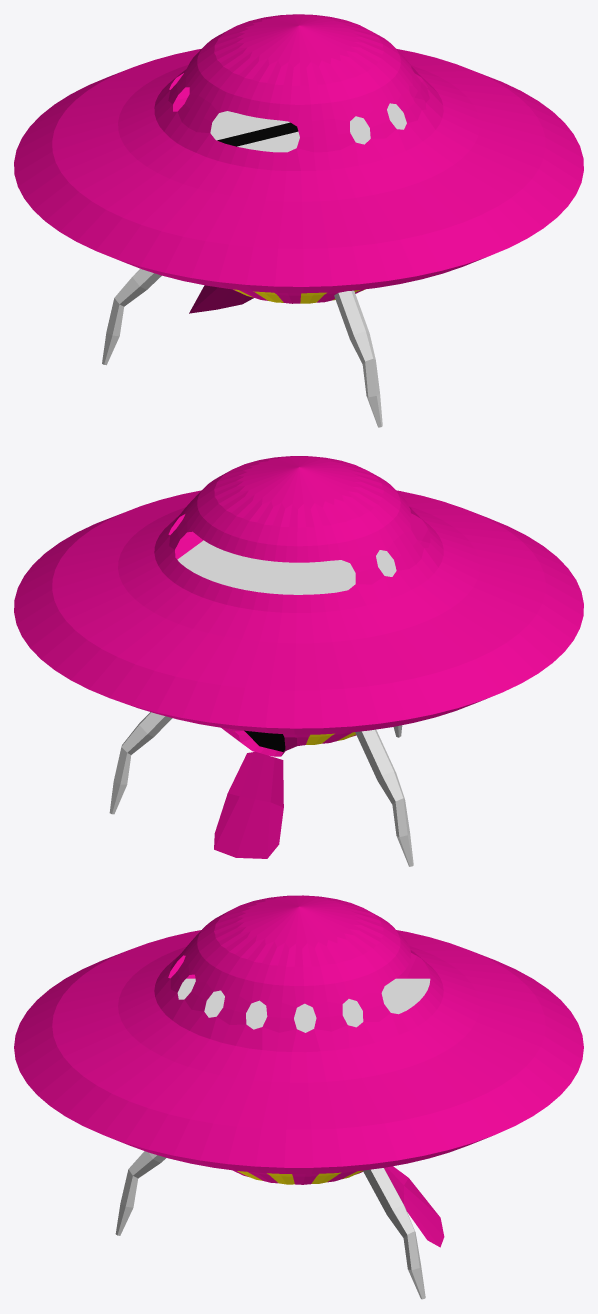
File: Spaceship.fbx
3 renders of one model, top to bottom at view 1: azimuth 30°, elevation 25°; view 2: azimuth 150°, elevation 25°; view 3: azimuth 270°, elevation 25°, orthographic.
Parts seen in each view (by area): view 1: Sphere, Cylinder.001, Plane, Plane.001, Plane.002; view 2: Sphere, Plane, Plane.001, Cylinder.001, Plane.002; view 3: Sphere, Cylinder.001, Plane, Plane.001.
Boxes of the visible parts, left/top/right/bottom form: Sphere: left=14, top=14, right=583, bottom=303; Cylinder.001: left=102, top=269, right=382, bottom=427; Plane: left=210, top=103, right=406, bottom=152; Plane.001: left=189, top=285, right=253, bottom=313; Plane.002: left=217, top=122, right=298, bottom=146; Sphere: left=14, top=456, right=583, bottom=756; Plane: left=177, top=540, right=396, bottom=594; Plane.001: left=214, top=751, right=283, bottom=858; Cylinder.001: left=109, top=712, right=413, bottom=866; Plane.002: left=244, top=730, right=285, bottom=751; Sphere: left=14, top=895, right=583, bottom=1184; Cylinder.001: left=115, top=1151, right=425, bottom=1299; Plane: left=177, top=978, right=430, bottom=1032; Plane.001: left=384, top=1166, right=444, bottom=1247.
Bounding box in the file's own units: 350 × 227 × 350.
